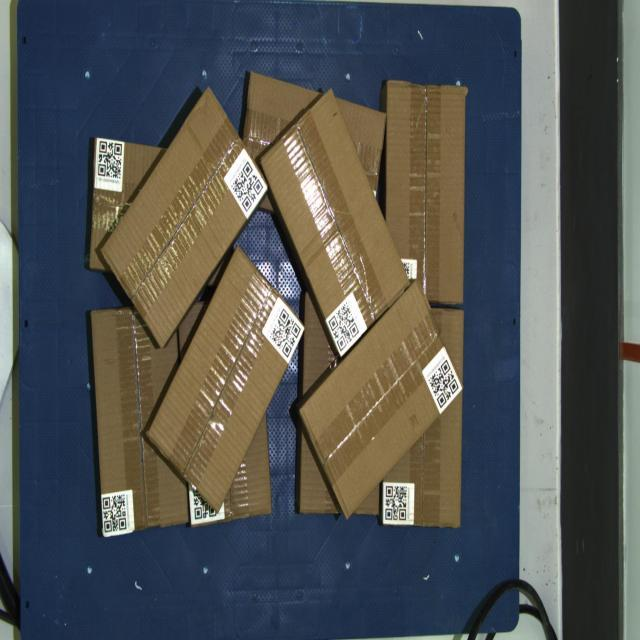box: (100, 86, 268, 349), (147, 244, 306, 514), (260, 88, 410, 358), (299, 279, 464, 520), (386, 82, 466, 304)
